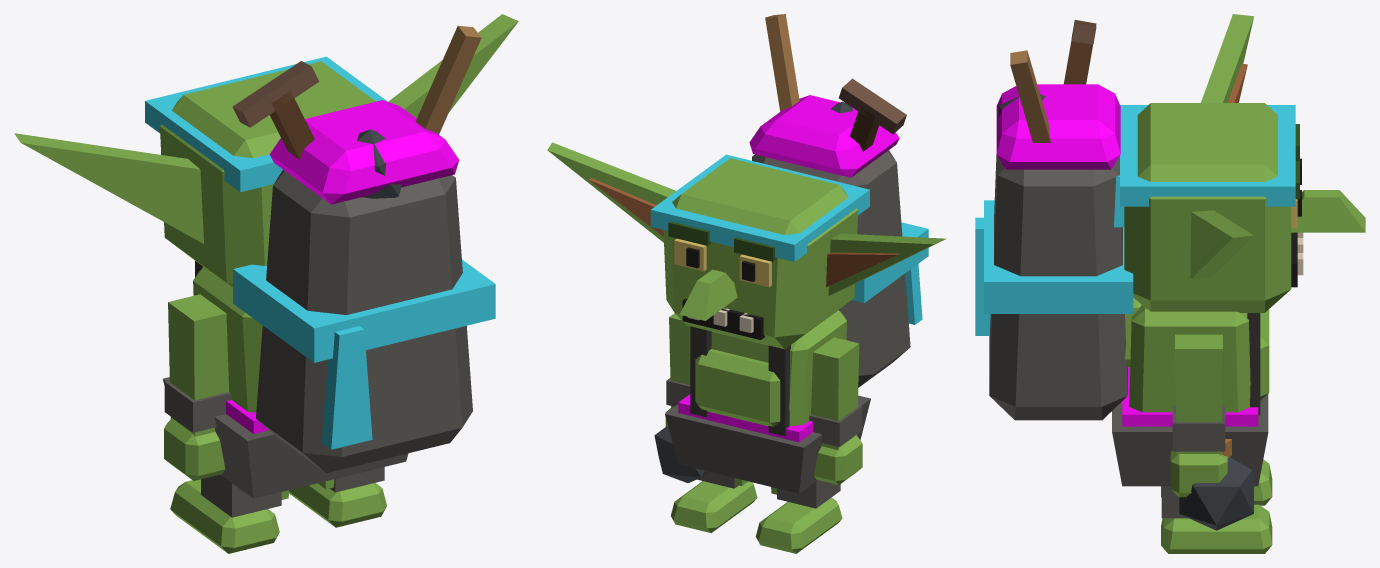
Rendered from CH_PitGoblin_SewerKing.fbx.
3 views of the same model, side by side, from view 1: azimuth 30°, elevation 25°; view 2: azimuth 150°, elevation 25°; view 3: azimuth 270°, elevation 25° (orthographic). The views are drawn at different scales.
Parts seen in each view (by area): view 1: Satchel, Head, SatchelFlap, SatchelRag, EarL, Rag, ArmL, RagTail, Headband, Body, FootL, JunkStick (+10 smaller); view 2: Head, Satchel, Rag, SatchelFlap, Headband, Belly, Body, ArmL, FootL, FootR, EarR, EarL (+22 smaller); view 3: Satchel, Head, SatchelFlap, Body, SatchelRag, Headband, Rag, ArmR, FootR, BombBall, EarR, Nose (+12 smaller).
Boxes of the visible parts, x1=… form: Satchel: x1=256, y1=169, x2=472, y2=473; Head: x1=160, y1=61, x2=375, y2=287; SatchelFlap: x1=269, y1=100, x2=459, y2=204; SatchelRag: x1=233, y1=259, x2=495, y2=362; EarL: x1=14, y1=133, x2=203, y2=243; Rag: x1=163, y1=377, x2=408, y2=498; ArmL: x1=168, y1=294, x2=229, y2=436; RagTail: x1=321, y1=326, x2=372, y2=449; Headband: x1=145, y1=56, x2=387, y2=192; Body: x1=193, y1=267, x2=262, y2=412; FootL: x1=170, y1=479, x2=279, y2=553; JunkStick: x1=415, y1=25, x2=481, y2=134; Head: x1=663, y1=158, x2=858, y2=349; Satchel: x1=752, y1=150, x2=910, y2=387; Rag: x1=665, y1=395, x2=870, y2=493; SatchelFlap: x1=749, y1=95, x2=899, y2=177; Headband: x1=650, y1=154, x2=869, y2=261; Belly: x1=695, y1=349, x2=780, y2=426; Body: x1=689, y1=310, x2=846, y2=426; ArmL: x1=811, y1=337, x2=859, y2=449; FootL: x1=755, y1=497, x2=842, y2=553; FootR: x1=671, y1=481, x2=757, y2=533; EarR: x1=547, y1=142, x2=675, y2=242; EarL: x1=828, y1=233, x2=946, y2=295; Satchel: x1=989, y1=154, x2=1127, y2=420; Head: x1=1124, y1=103, x2=1291, y2=312; SatchelFlap: x1=996, y1=84, x2=1120, y2=169; Body: x1=1129, y1=305, x2=1250, y2=412; SatchelRag: x1=984, y1=200, x2=1133, y2=313; Headband: x1=1120, y1=105, x2=1295, y2=206; Rag: x1=1112, y1=394, x2=1268, y2=486; ArmR: x1=1175, y1=334, x2=1222, y2=455; FootR: x1=1161, y1=504, x2=1272, y2=553; BombBall: x1=1179, y1=457, x2=1253, y2=530; EarR: x1=1190, y1=210, x2=1253, y2=279; Nose: x1=1291, y1=190, x2=1365, y2=232.
Size of the model in its own units: 1.21 by 0.89 by 1.27.
